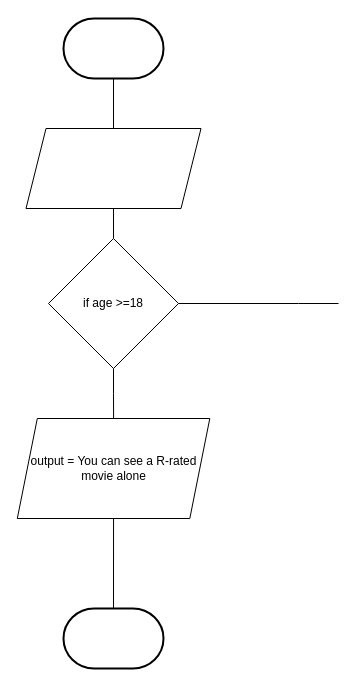
Image size: 358x686. Some labels were removed from this diagram. Here are the shapes that lost their labels. From the top down, the box of each, then its label:
(62, 17, 164, 79): Start
(62, 607, 164, 669): Stop
